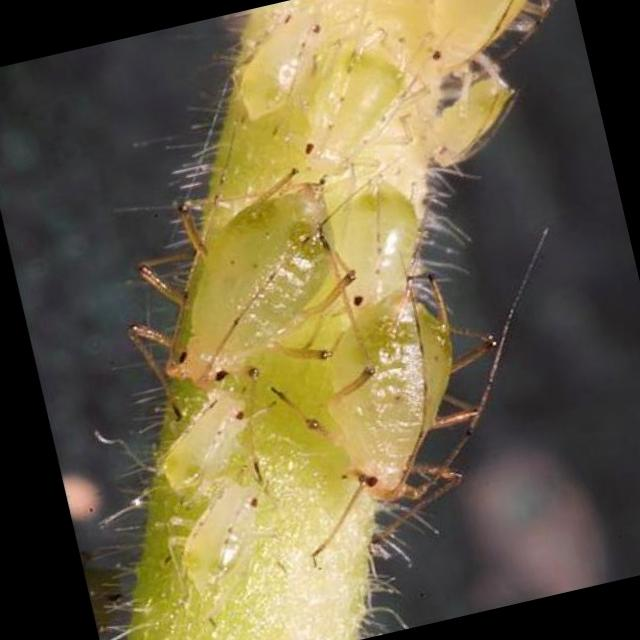aphid: (145, 0, 568, 601)
